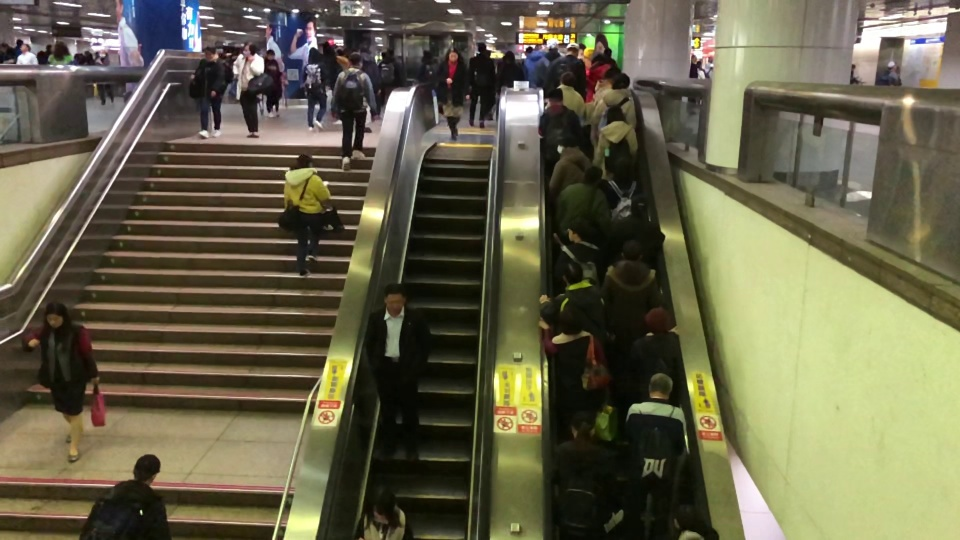person_head: (366, 484, 396, 521), (131, 453, 161, 485), (41, 299, 71, 331), (673, 499, 700, 531), (382, 282, 407, 315), (569, 410, 596, 440), (646, 372, 674, 400), (643, 306, 670, 335), (558, 306, 583, 336), (565, 218, 591, 244), (619, 239, 644, 262), (612, 154, 634, 180), (561, 260, 583, 286), (629, 193, 649, 221), (554, 133, 579, 154), (581, 165, 603, 186), (605, 105, 627, 125), (293, 153, 313, 171), (612, 72, 630, 91), (546, 87, 563, 107), (589, 50, 607, 67), (559, 71, 576, 89), (51, 40, 68, 57), (604, 65, 621, 82), (347, 51, 363, 69), (307, 47, 322, 65), (241, 41, 257, 57), (564, 42, 580, 58), (583, 47, 596, 64), (445, 47, 459, 62), (546, 37, 559, 53), (502, 50, 516, 64), (204, 46, 217, 60), (420, 50, 434, 63), (475, 41, 488, 55), (360, 47, 371, 62), (322, 40, 332, 55), (19, 42, 32, 53), (886, 60, 897, 72), (524, 46, 534, 56), (266, 49, 275, 60), (15, 38, 24, 48), (386, 48, 395, 58), (0, 41, 8, 52), (383, 53, 391, 64), (335, 48, 344, 57), (44, 42, 52, 52), (690, 54, 697, 64), (99, 46, 106, 55), (696, 61, 702, 68)
person_vbox: (21, 300, 100, 464), (363, 282, 433, 465), (622, 372, 691, 540), (538, 305, 611, 436), (549, 410, 621, 540), (77, 453, 174, 540), (623, 305, 685, 414), (280, 153, 331, 278), (603, 192, 666, 290), (330, 50, 379, 172), (538, 260, 607, 346), (601, 238, 659, 340), (553, 164, 612, 245), (553, 218, 608, 297), (537, 87, 582, 178), (589, 72, 637, 148), (189, 46, 227, 140), (592, 105, 638, 181), (353, 484, 415, 540), (546, 132, 594, 202), (231, 41, 265, 139), (435, 47, 470, 142), (600, 154, 645, 219), (541, 42, 586, 99), (467, 41, 496, 129), (301, 47, 330, 132), (312, 40, 344, 114), (666, 499, 719, 540), (495, 51, 524, 122), (544, 71, 585, 118), (586, 65, 621, 117), (585, 50, 617, 103), (262, 49, 282, 118), (533, 37, 560, 88), (93, 46, 114, 106), (521, 46, 548, 88), (378, 53, 399, 105), (360, 47, 381, 97), (414, 49, 441, 85), (46, 40, 79, 65), (686, 54, 698, 115), (583, 46, 597, 90), (15, 42, 39, 65), (696, 60, 706, 104), (0, 41, 16, 64), (886, 60, 900, 86), (335, 48, 350, 70), (12, 38, 24, 61), (43, 42, 53, 63)
